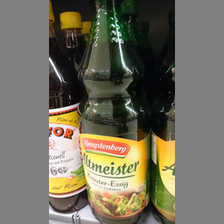vinegar: (77, 1, 153, 224), (49, 1, 88, 213)
